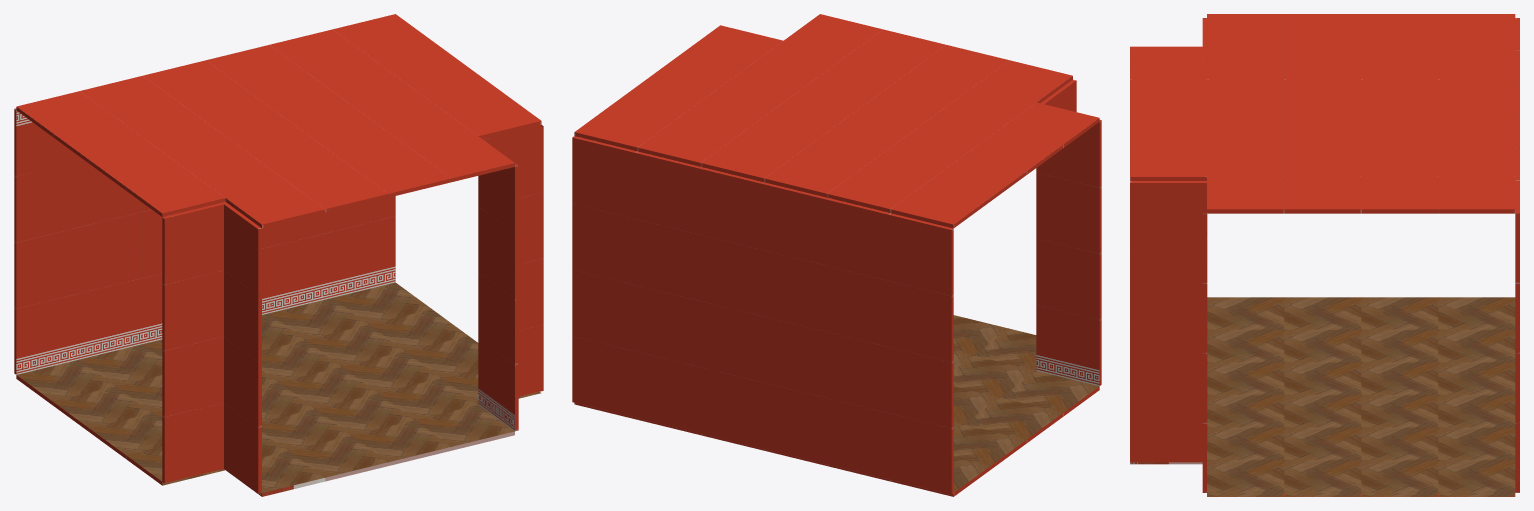
The model's file is ConexaoT.fbx.
3 renders of one model, left to right at view 1: azimuth 30°, elevation 25°; view 2: azimuth 150°, elevation 25°; view 3: azimuth 270°, elevation 25°, orthographic. The views are drawn at different scales.
Parts seen in each view (by area): view 1: ConexaoT; view 2: ConexaoT; view 3: ConexaoT.
Boxes of the visible parts, box(x1,y1,x2,y2) form: ConexaoT: box(14, 14, 543, 496); ConexaoT: box(572, 14, 1101, 496); ConexaoT: box(1130, 14, 1519, 496).
Bounding box in the file's own units: 1200 × 823 × 1012.
